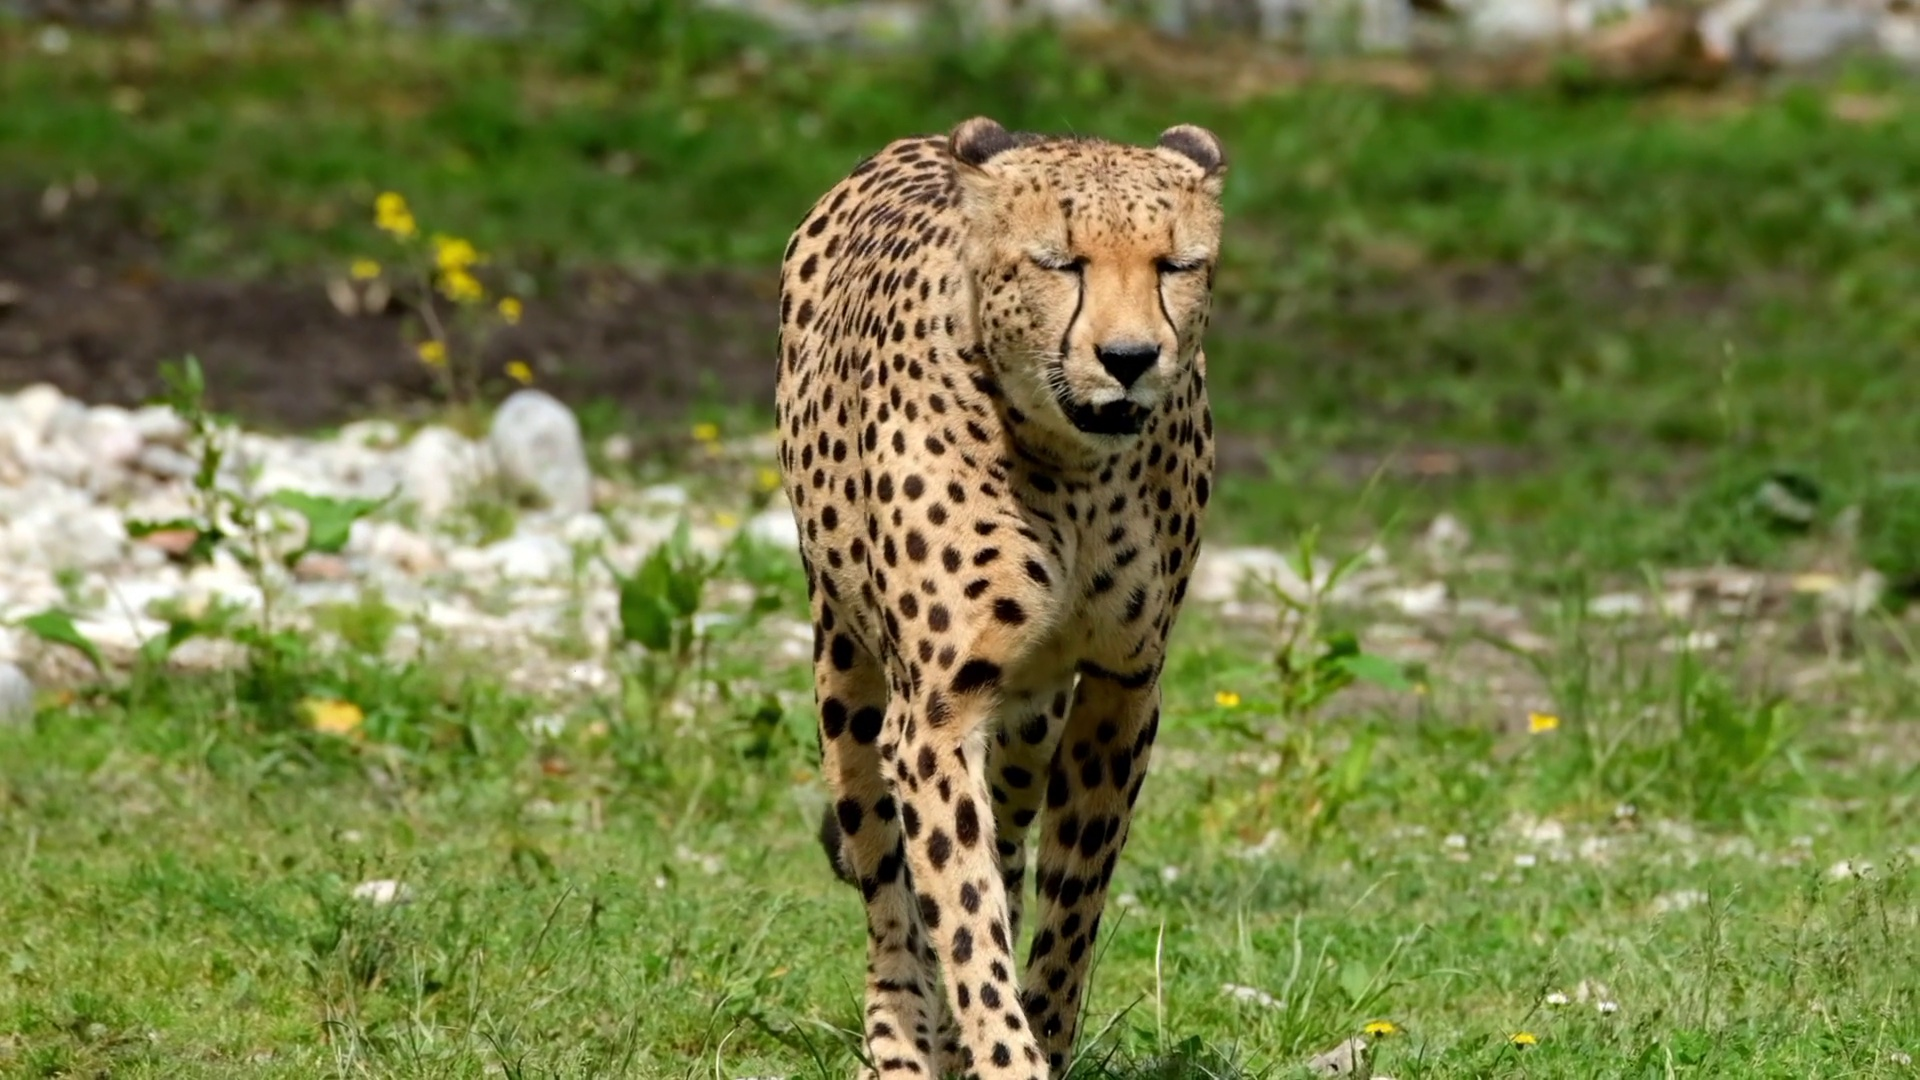Cheetah: (771, 111, 1229, 1080)
